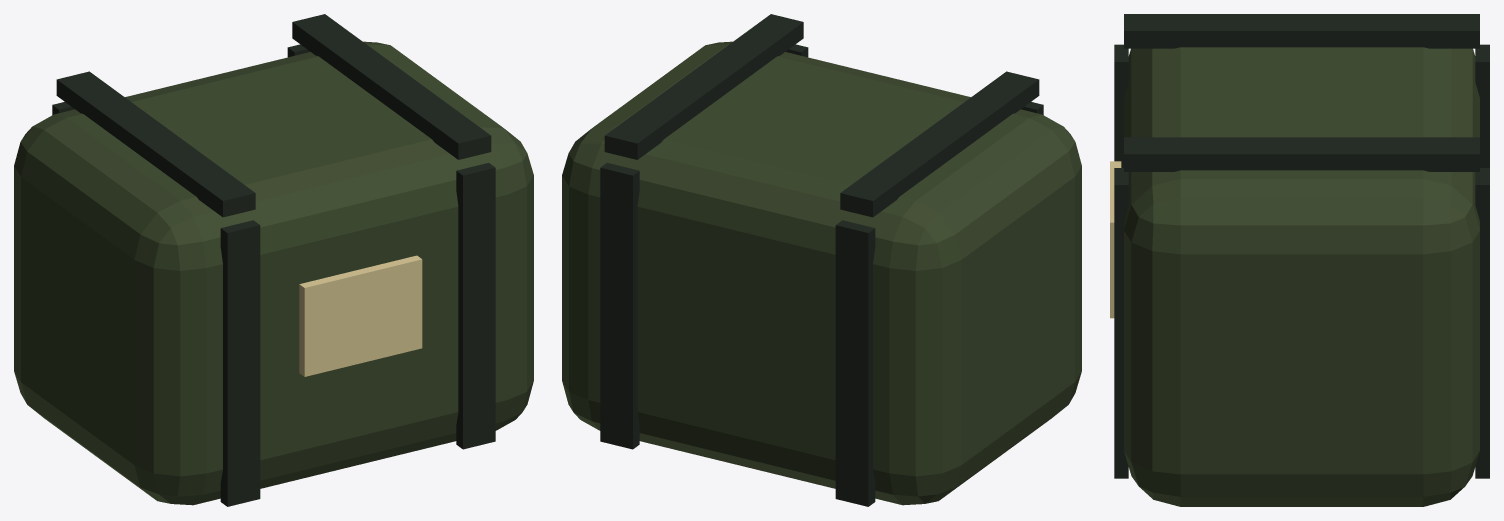
The model's file is md_fulton_bag.fbx.
The picture shows the model from 3 angles, left to right: view 1: azimuth 30°, elevation 25°; view 2: azimuth 150°, elevation 25°; view 3: azimuth 270°, elevation 25°; orthographic projection. The views are drawn at different scales.
Visible parts, largest first — view 1: md_fulton_bag; view 2: md_fulton_bag; view 3: md_fulton_bag.
Part boxes in pixels (x1,y1,x2,y2): md_fulton_bag: (14, 14, 533, 506); md_fulton_bag: (562, 14, 1081, 506); md_fulton_bag: (1110, 14, 1489, 506).
Size of the model in its own units: 60 by 46.2 by 46.9.
